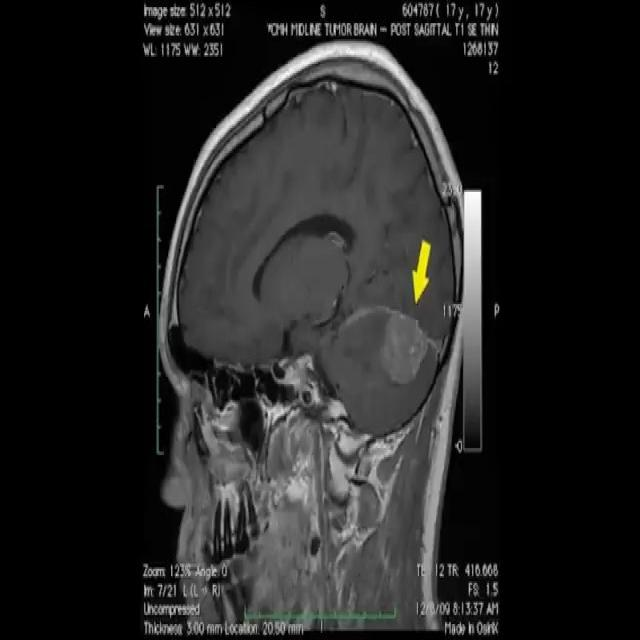tumor: (378, 285, 431, 412)
